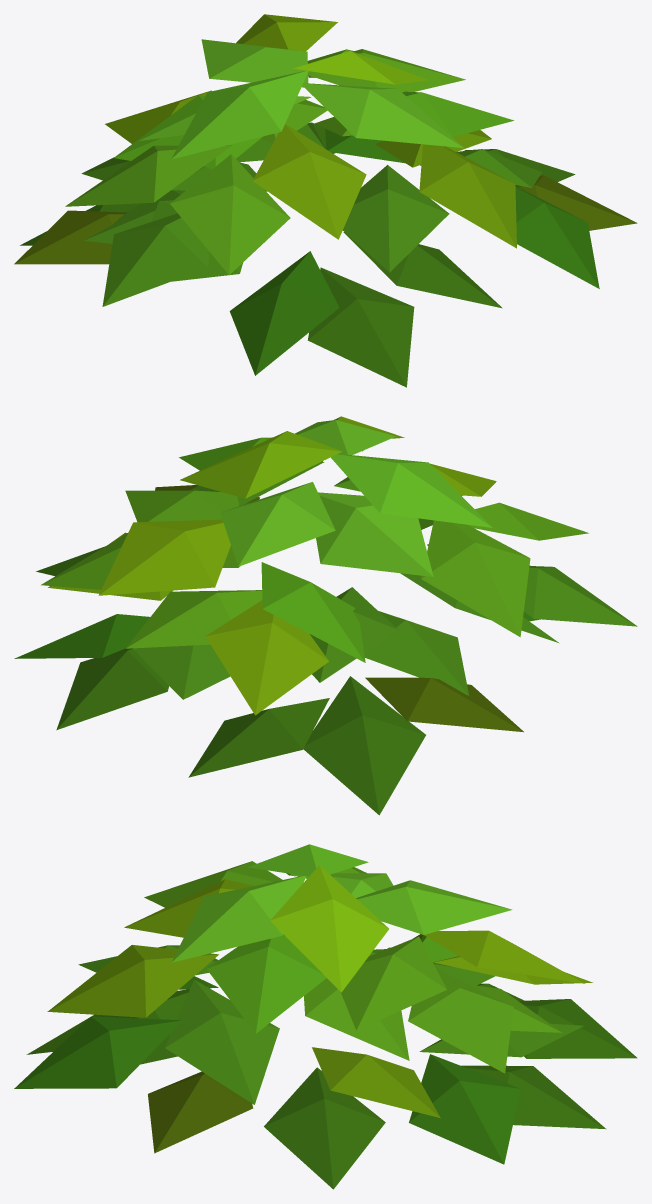
Rendered from um_flower009.FBX.
The picture shows the model from 3 angles, top to bottom: view 1: azimuth 30°, elevation 25°; view 2: azimuth 150°, elevation 25°; view 3: azimuth 270°, elevation 25°; orthographic projection. The views are drawn at different scales.
Parts seen in each view (by area): view 1: um_flower009; view 2: um_flower009; view 3: um_flower009.
Boxes of the visible parts, bbox=[...] form: um_flower009: bbox=[14, 14, 637, 387]; um_flower009: bbox=[14, 416, 637, 815]; um_flower009: bbox=[14, 844, 637, 1189].
Bounding box in the file's own units: 1.22 × 0.5021 × 1.25.
